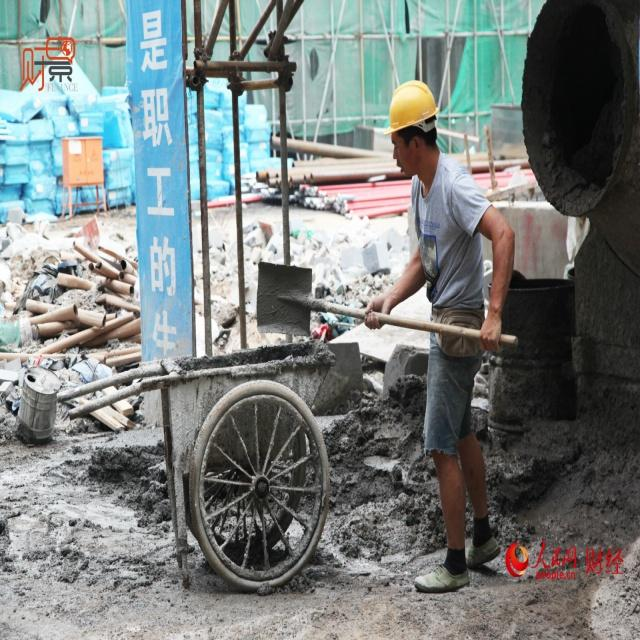helmet: (382, 107, 445, 240)
